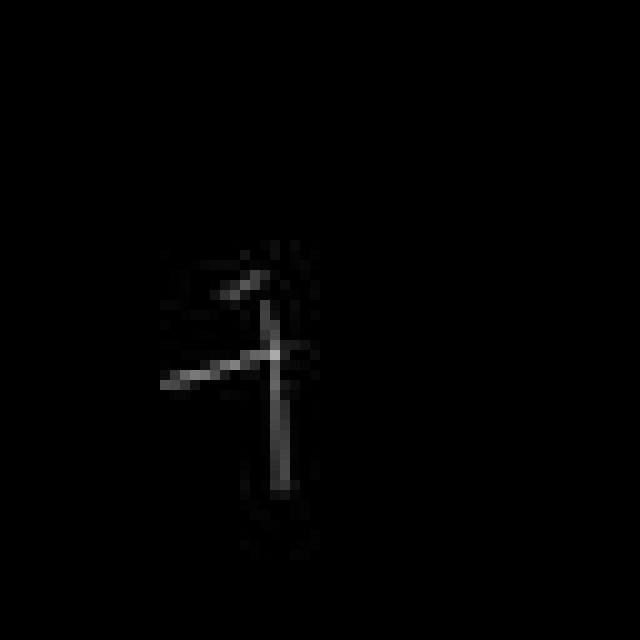1000 -a thousand-: (153, 257, 309, 507)
